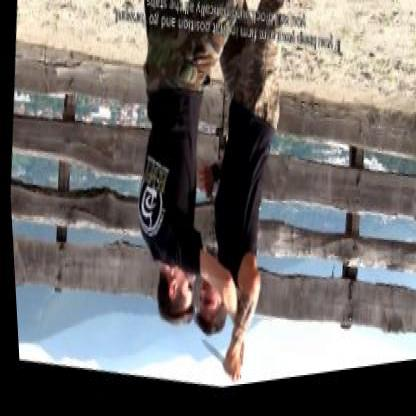knife: (192, 337, 240, 394)
